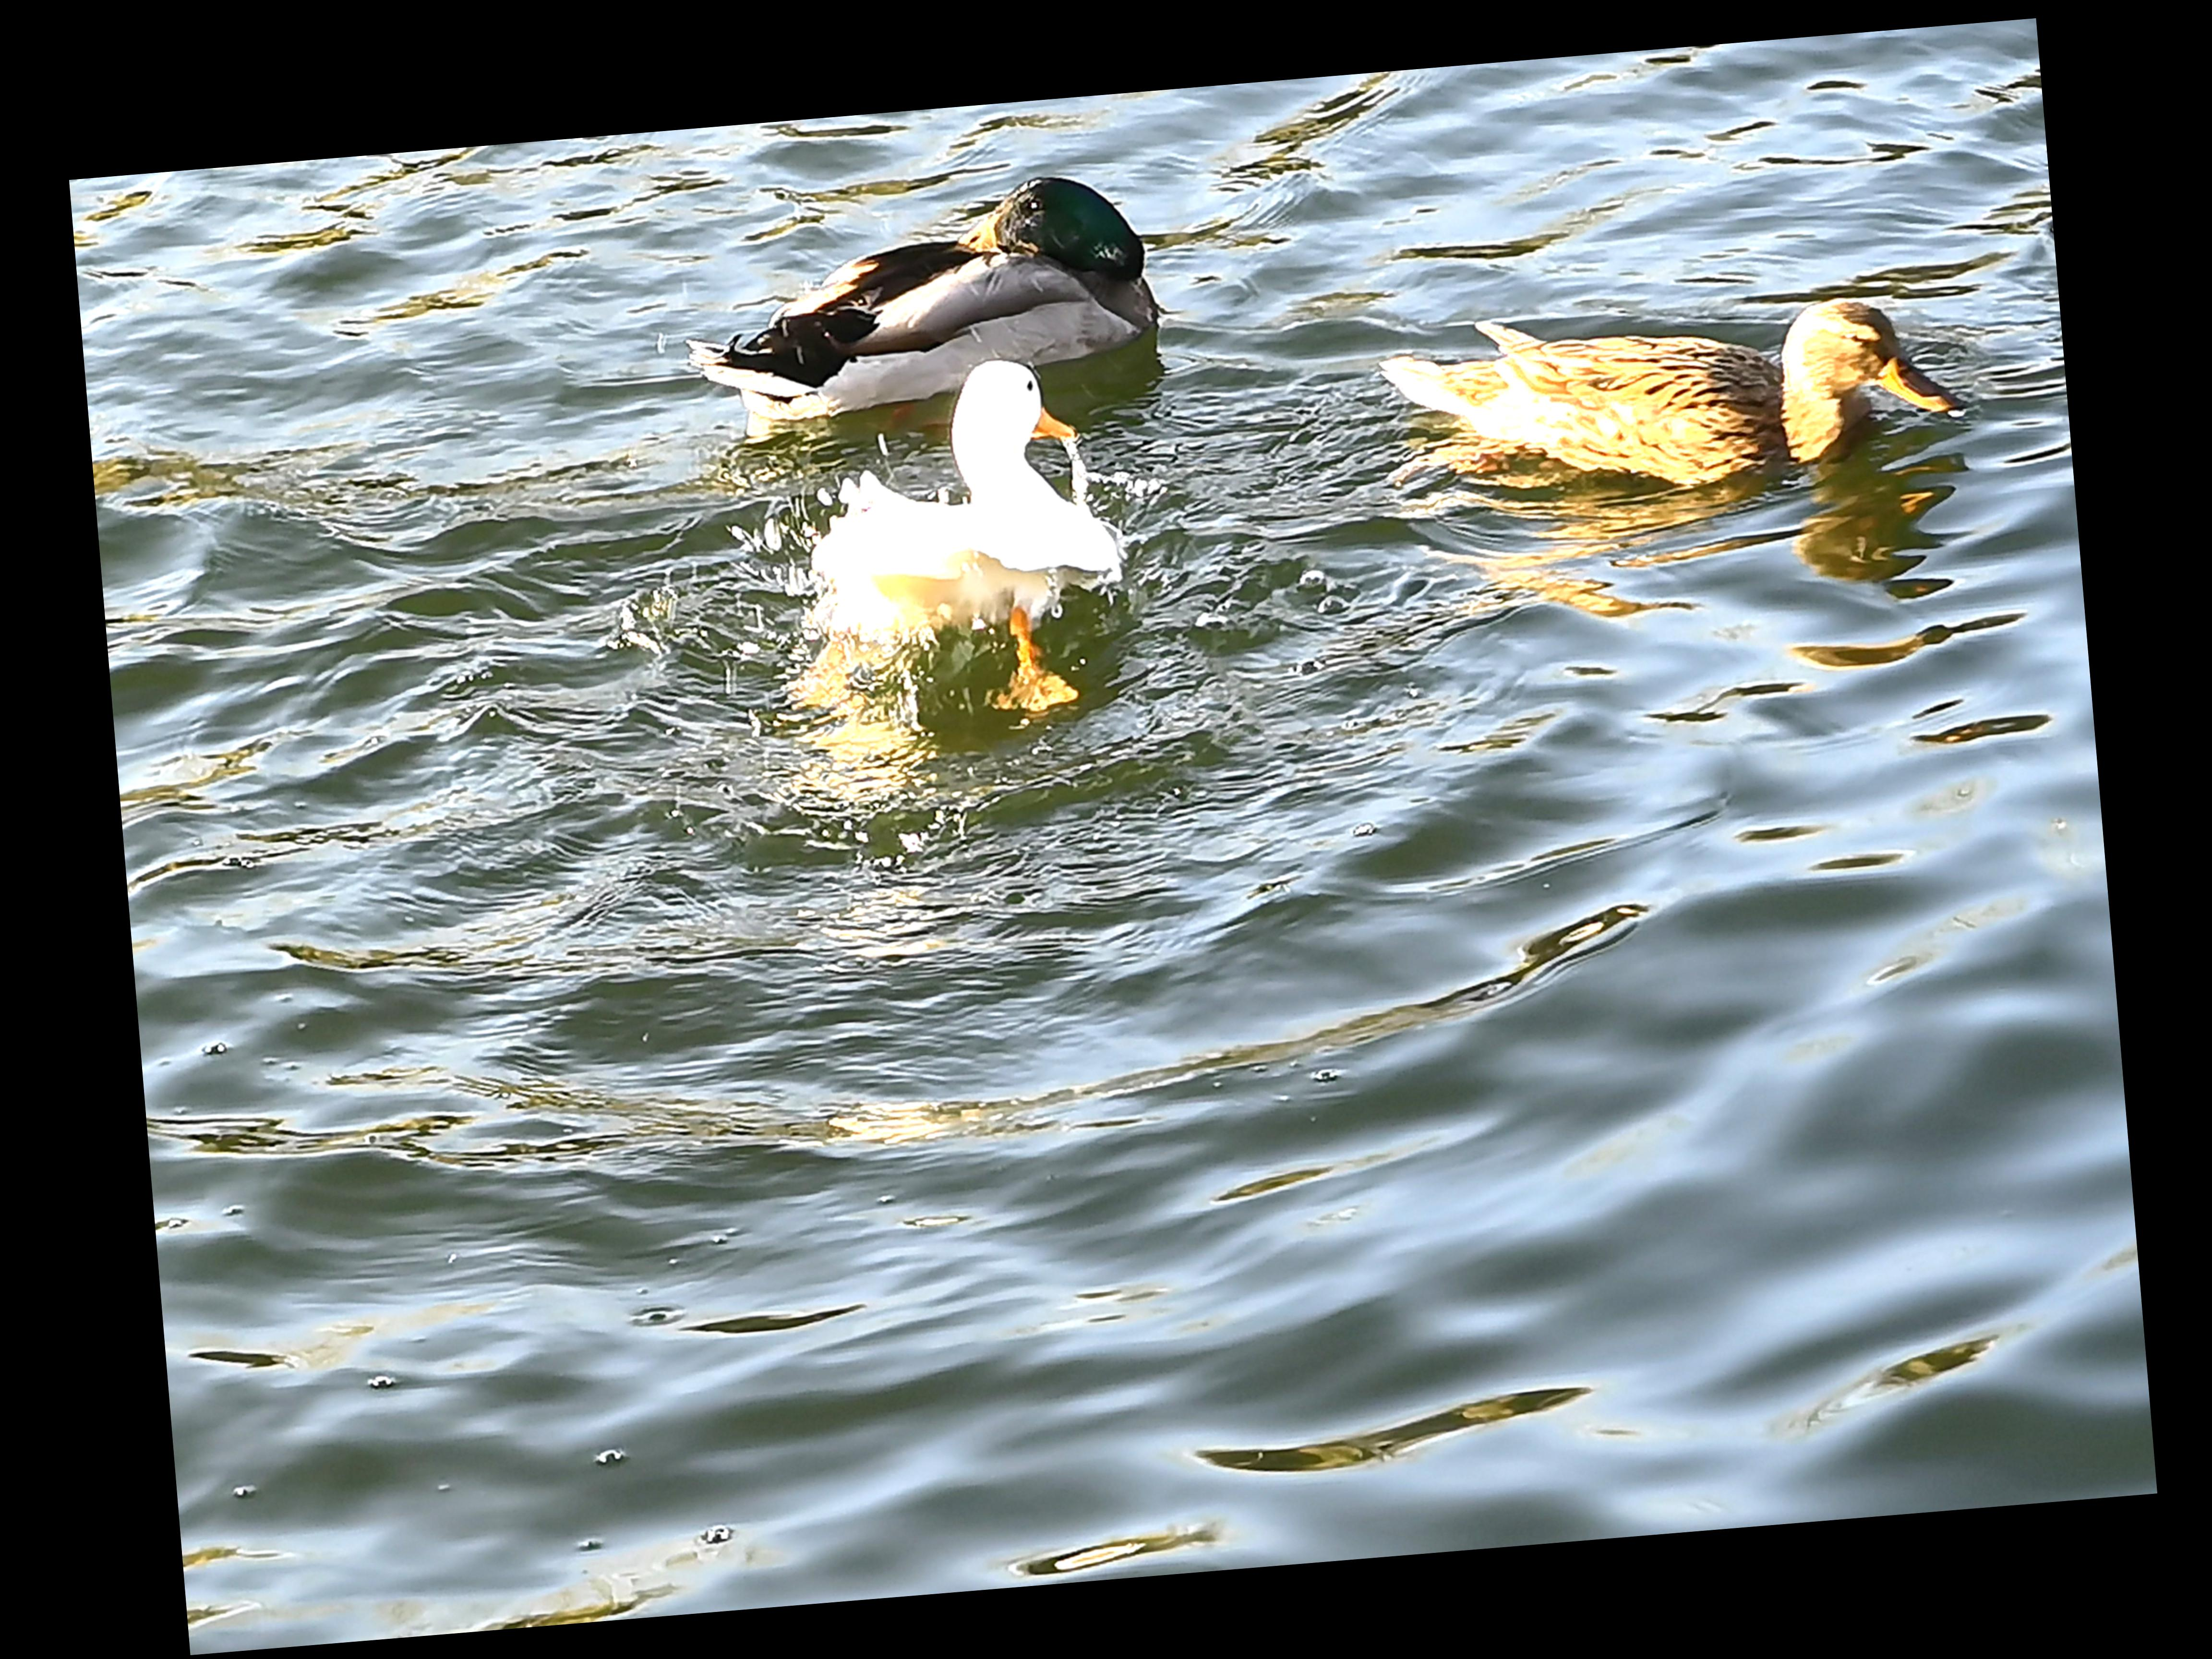duck: (1353, 234, 2003, 565), (733, 345, 1146, 760), (679, 164, 1181, 436)
